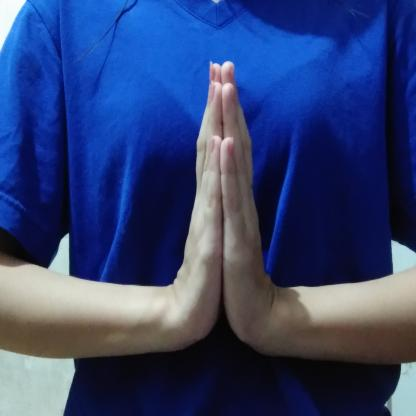sorry: (166, 55, 302, 365)
